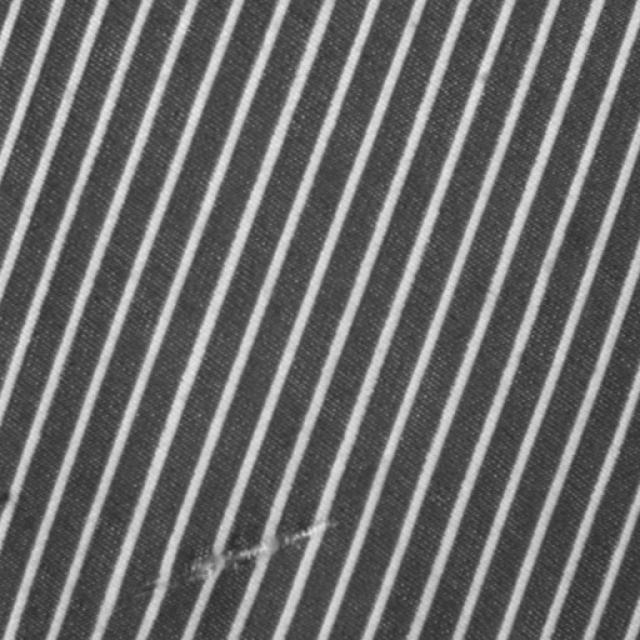Thread-Defect: (134, 519, 336, 610)
